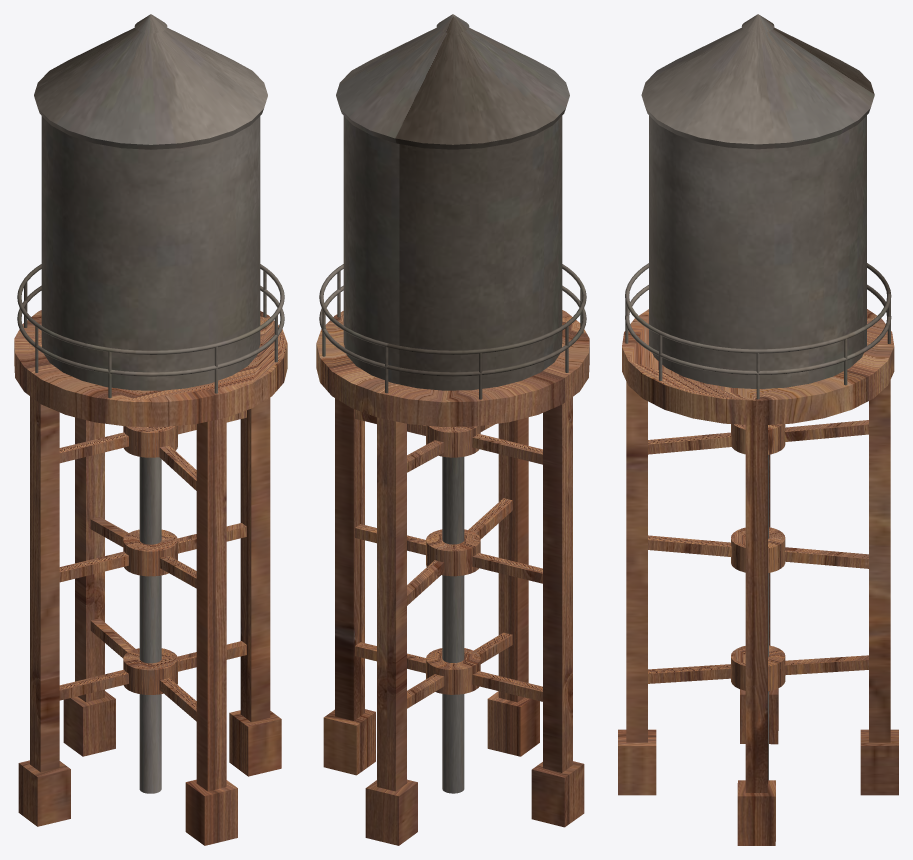
Rendered from WaterTower.FBX.
The picture shows the model from 3 angles, left to right: view 1: azimuth 30°, elevation 25°; view 2: azimuth 150°, elevation 25°; view 3: azimuth 270°, elevation 25°; orthographic projection.
Visible parts, largest first — view 1: Cylinder001, Cone001, Cylinder002, Box003, Box005, Box007, Box001, Cylinder012, Box004, Box006, Box008, Box002 (+11 smaller); view 2: Cylinder001, Cone001, Cylinder002, Box001, Box005, Box007, Box003, Cylinder012, Box006, Box008, Box002, Box004 (+11 smaller); view 3: Cylinder001, Cone001, Cylinder002, Box007, Box001, Box003, Box013, Box011, Box009, Box002, Box004, Box008 (+6 smaller).
Part boxes in pixels (x1,y1,x2,y2): Cylinder001: [41, 116, 260, 390]; Cone001: [34, 27, 267, 149]; Cylinder002: [14, 310, 287, 427]; Box003: [196, 417, 226, 791]; Box005: [30, 396, 59, 772]; Box007: [240, 398, 270, 721]; Box001: [75, 417, 104, 702]; Cylinder012: [139, 457, 161, 793]; Box004: [185, 779, 237, 845]; Box006: [18, 760, 70, 826]; Box008: [229, 710, 281, 776]; Box002: [63, 691, 115, 756]; Cylinder001: [343, 116, 562, 390]; Cone001: [336, 27, 569, 149]; Cylinder002: [316, 310, 589, 426]; Box001: [377, 417, 406, 791]; Box005: [543, 397, 572, 772]; Box007: [335, 398, 364, 720]; Box003: [498, 417, 528, 702]; Cylinder012: [442, 456, 464, 793]; Box006: [531, 761, 584, 827]; Box008: [323, 709, 375, 775]; Box002: [365, 779, 417, 845]; Box004: [487, 691, 539, 756]; Cylinder001: [649, 115, 866, 388]; Cone001: [641, 27, 874, 149]; Cylinder002: [622, 309, 894, 425]; Box007: [745, 425, 767, 792]; Box001: [869, 380, 890, 742]; Box003: [626, 382, 647, 742]; Box013: [648, 420, 868, 454]; Box011: [648, 535, 868, 568]; Box009: [648, 655, 868, 683]; Box002: [860, 729, 898, 795]; Box004: [618, 729, 656, 795]; Box008: [737, 780, 775, 845].
Size of the model in its own units: 51.19 by 156 by 51.46.
3 materials, 2 textured.
